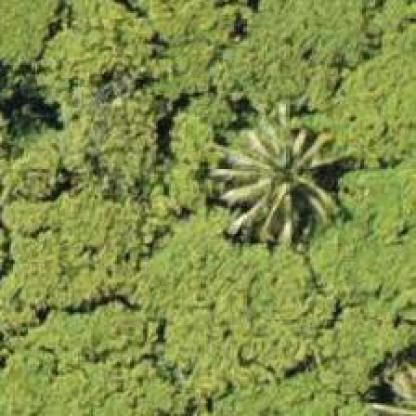coconut tree: (211, 106, 353, 248)
